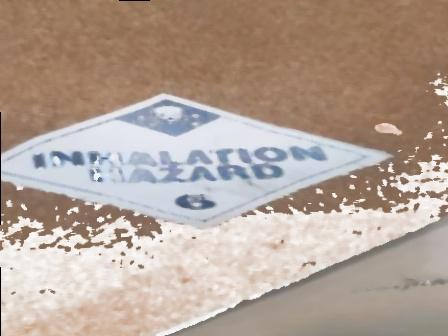poison: (1, 94, 399, 226)
